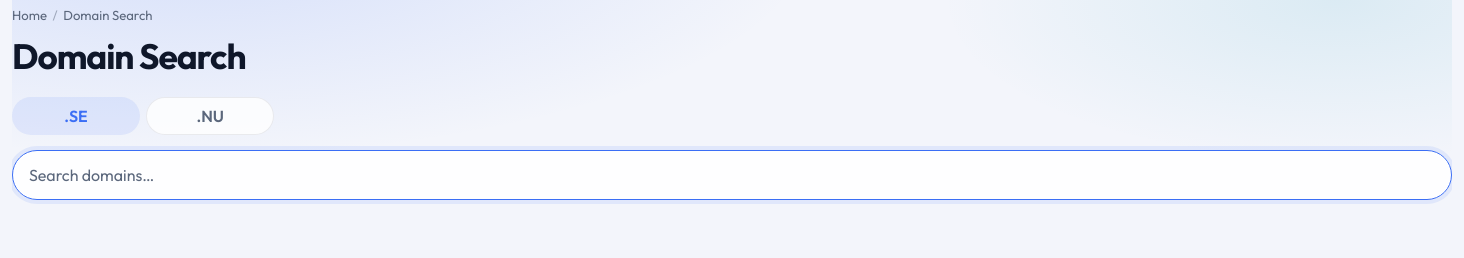
Test: Search Component › shows no results message when search returns empty
In the field: coordinates (732, 174) [12,150,1452,200], type "xyz123"
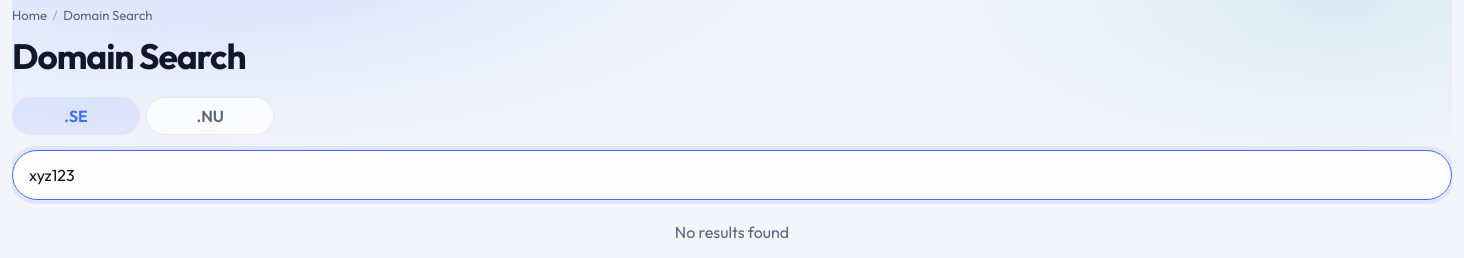
Expected: the text "No results found" is shown, [675,222,789,242]
